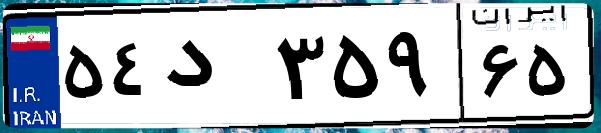3: (270, 28, 330, 110)
4: (110, 28, 158, 98)
5: (330, 28, 385, 110), (57, 26, 110, 100), (525, 38, 570, 115)
6: (475, 38, 525, 113)
9: (385, 28, 445, 110)
د: (158, 20, 270, 120)
